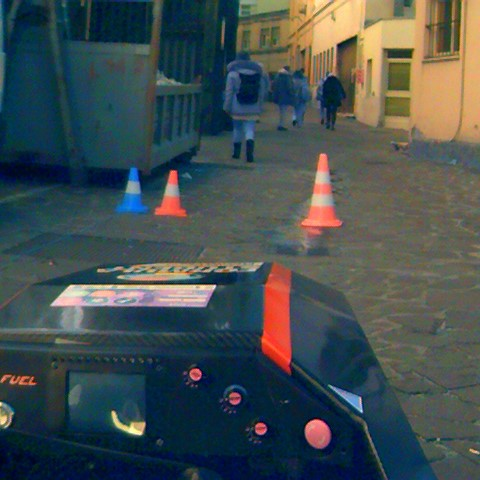cone: (115, 169, 147, 215)
